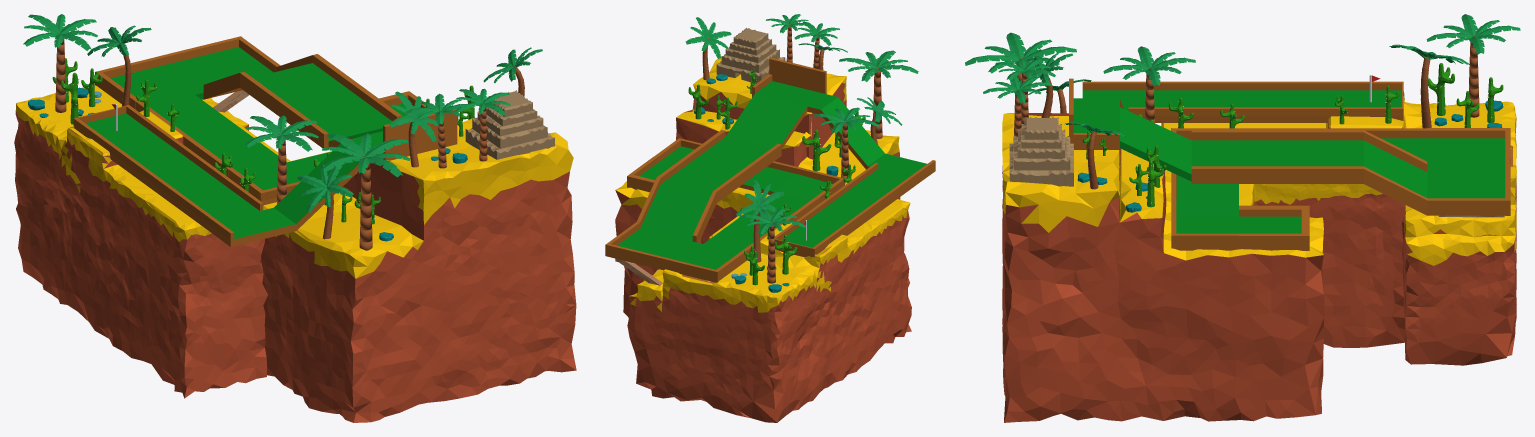
The model's file is mapadesierto.glb.
3 views of the same model, side by side, from view 1: azimuth 30°, elevation 25°; view 2: azimuth 150°, elevation 25°; view 3: azimuth 270°, elevation 25° (orthographic). The views are drawn at different scales.
Visible parts, largest first — view 1: Cone.085; view 2: Cone.085; view 3: Cone.085.
Part boxes in pixels (box(x1,y1,x2,y2)): Cone.085: box(14, 14, 576, 422); Cone.085: box(605, 14, 935, 422); Cone.085: box(965, 14, 1520, 422).
Size of the model in its own units: 94.59 by 82.35 by 135.
Materials: 64 (1 with a texture image).
